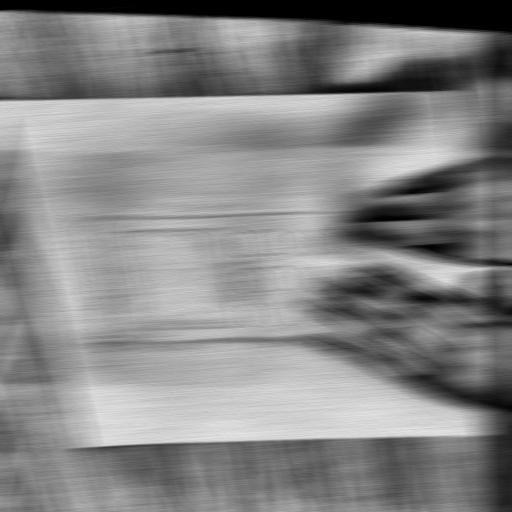bottom_left: (474, 430, 497, 437)
bottom_right: (437, 86, 461, 94)
mobile: (30, 201, 451, 350)
top_left: (71, 442, 94, 448)
top_right: (0, 96, 10, 103)
